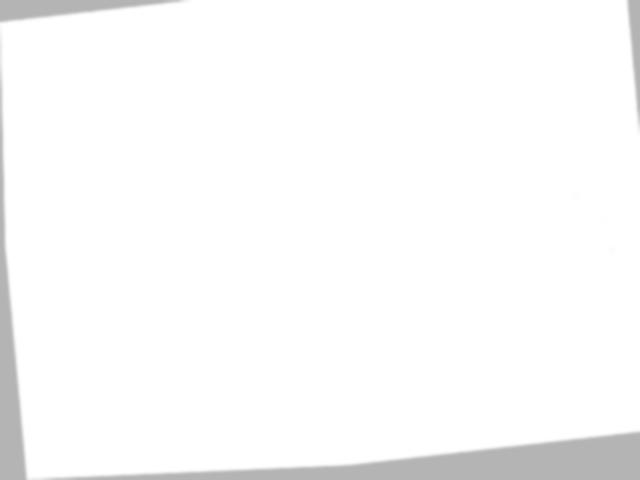hedef: (502, 165, 640, 289)
